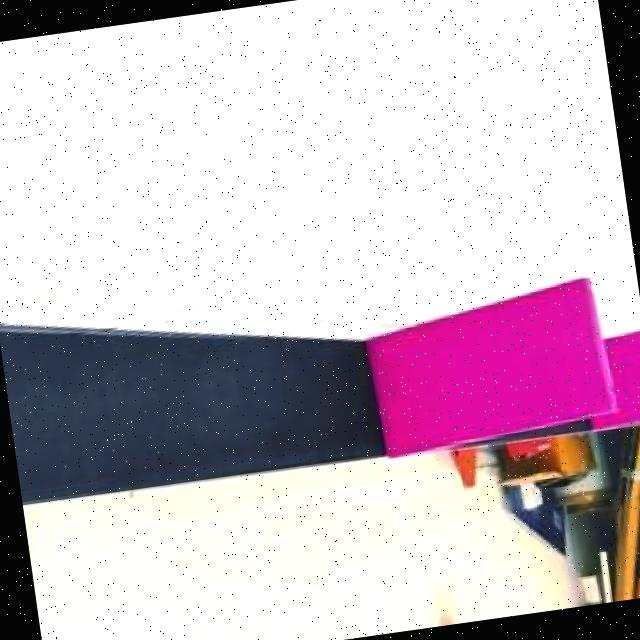xparking: (368, 297, 610, 446)
